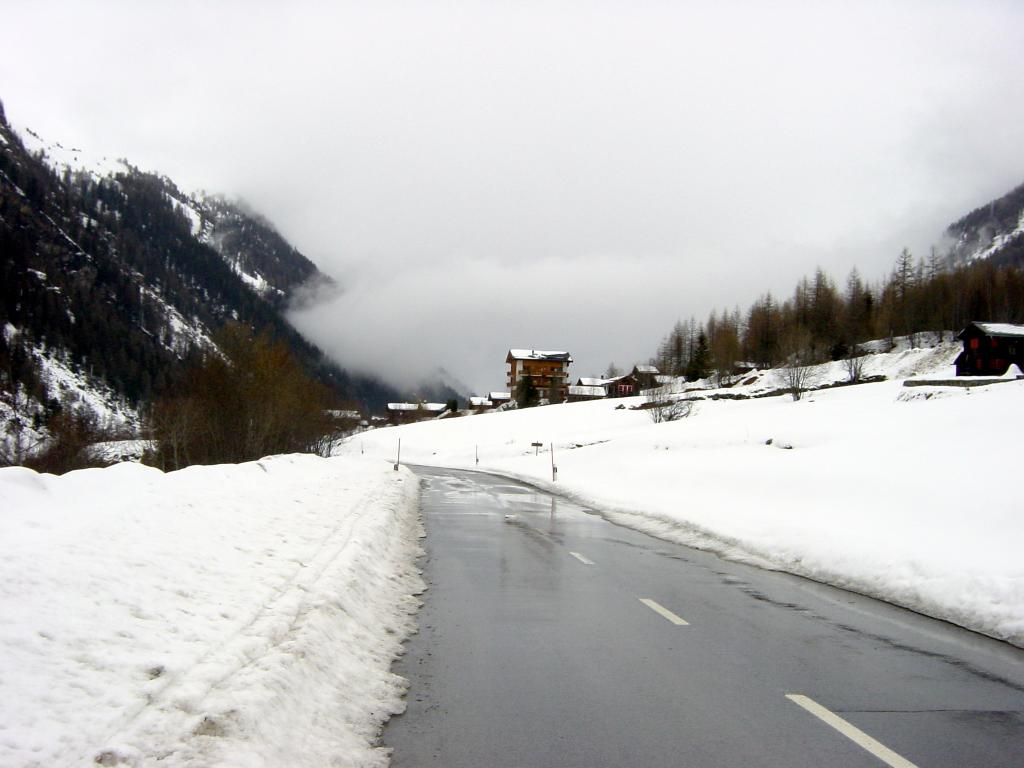Tree: (0, 92, 412, 440), (656, 234, 1023, 381), (130, 321, 344, 475), (28, 386, 108, 475), (940, 181, 1023, 247), (0, 329, 56, 408)
